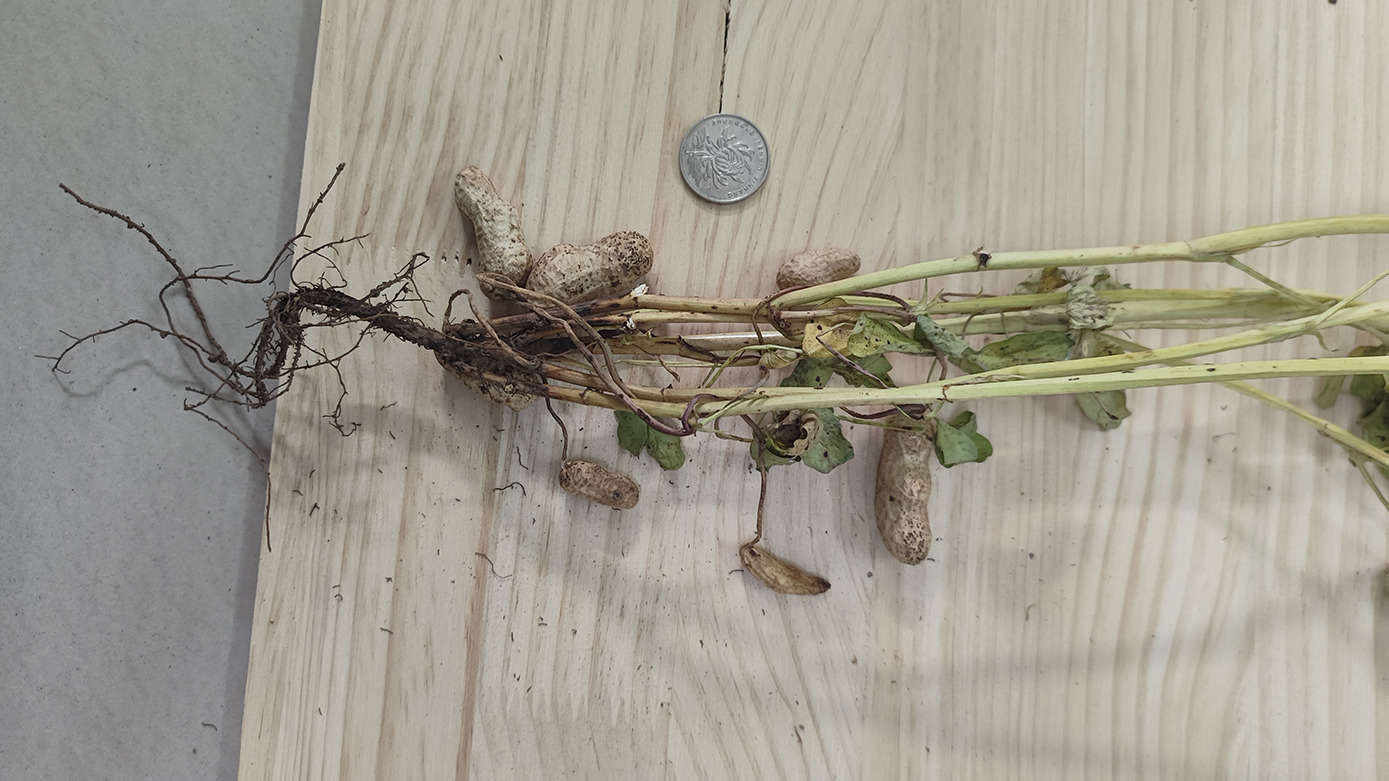h: (525, 231, 653, 311), (454, 164, 533, 281), (876, 412, 934, 566), (559, 461, 640, 511), (774, 246, 862, 292)
l: (739, 545, 832, 597)
